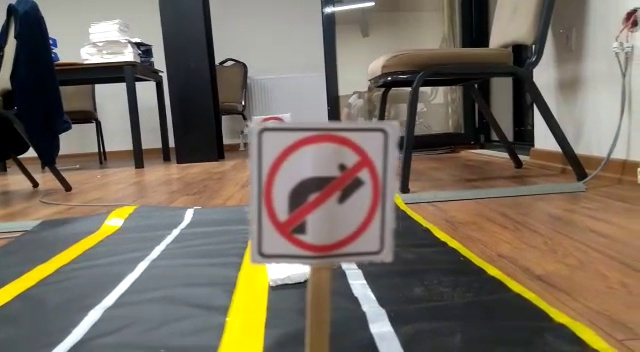saga_donulmez: (260, 126, 383, 264)
